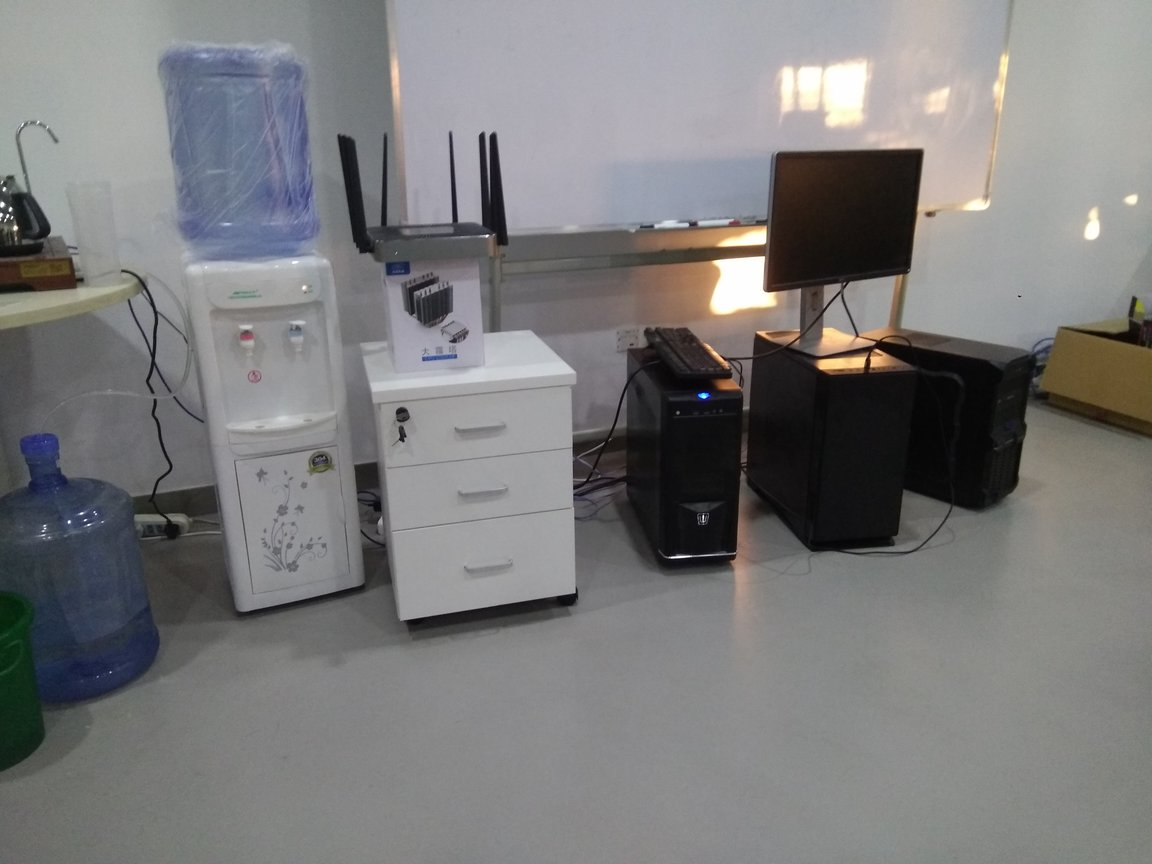computer: (763, 327, 917, 551), (857, 324, 1032, 520), (629, 348, 740, 573)
drawer chest: (352, 331, 591, 637)
monitor: (758, 142, 923, 364)
scuttlebutt: (1, 436, 174, 716), (155, 43, 317, 251)
water dispenser: (171, 227, 369, 613)
